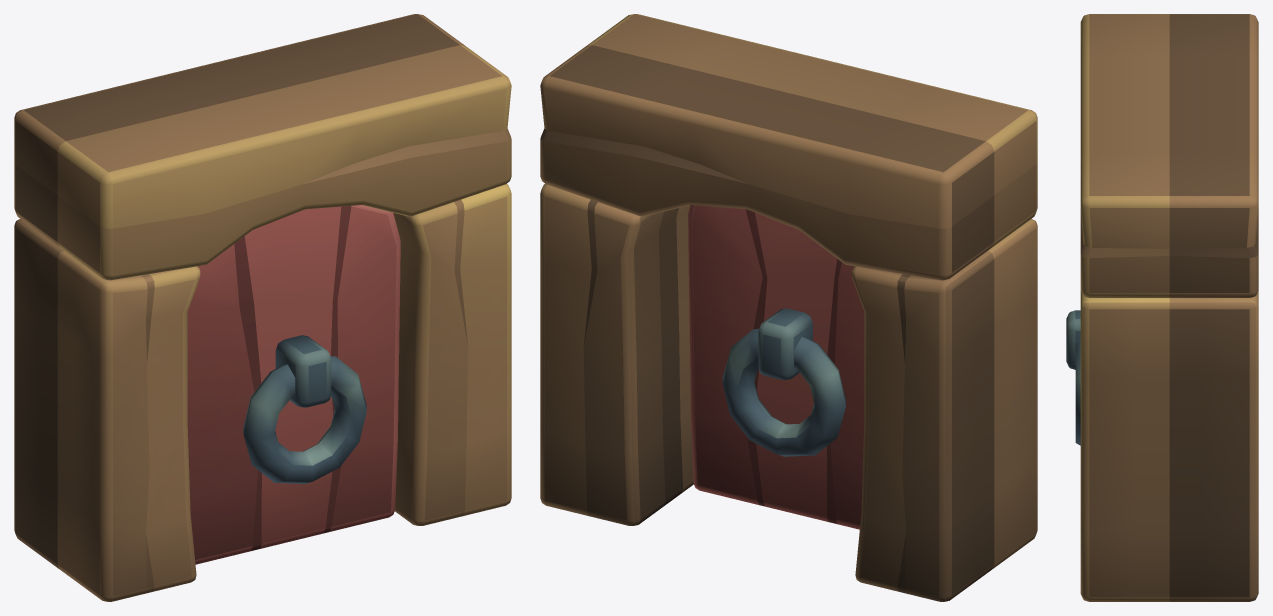
File: tavern_door.fbx
The picture shows the model from 3 angles, left to right: view 1: azimuth 30°, elevation 25°; view 2: azimuth 150°, elevation 25°; view 3: azimuth 270°, elevation 25°; orthographic projection. The views are drawn at different scales.
Parts seen in each view (by area): view 1: tavern_door_frame_LOD0, tavern_door_LOD0; view 2: tavern_door_frame_LOD0, tavern_door_LOD0; view 3: tavern_door_frame_LOD0, tavern_door_LOD0.
Part boxes in pixels (<box>): tavern_door_frame_LOD0: <box>14,14,511,601</box>; tavern_door_LOD0: <box>187,205,400,564</box>; tavern_door_frame_LOD0: <box>540,14,1037,601</box>; tavern_door_LOD0: <box>688,205,864,529</box>; tavern_door_frame_LOD0: <box>1080,14,1258,601</box>; tavern_door_LOD0: <box>1066,310,1080,445</box>.
Size of what is drawn, in the model's own units: 200 by 200 by 85.94.
